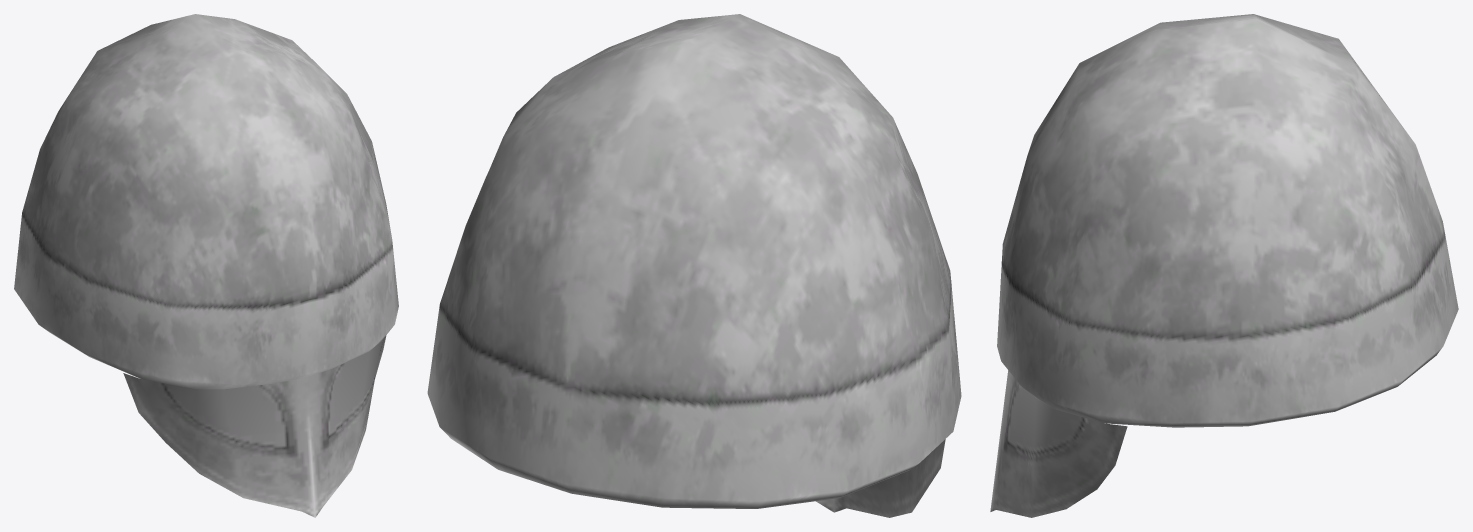
File: helmet-mediuminfantry.glb
3 views of the same model, side by side, from view 1: azimuth 30°, elevation 25°; view 2: azimuth 150°, elevation 25°; view 3: azimuth 270°, elevation 25° (orthographic). The views are drawn at different scales.
Size of the model in its own units: 0.2881 by 0.3532 by 0.3061.
1 material, 1 textured.
